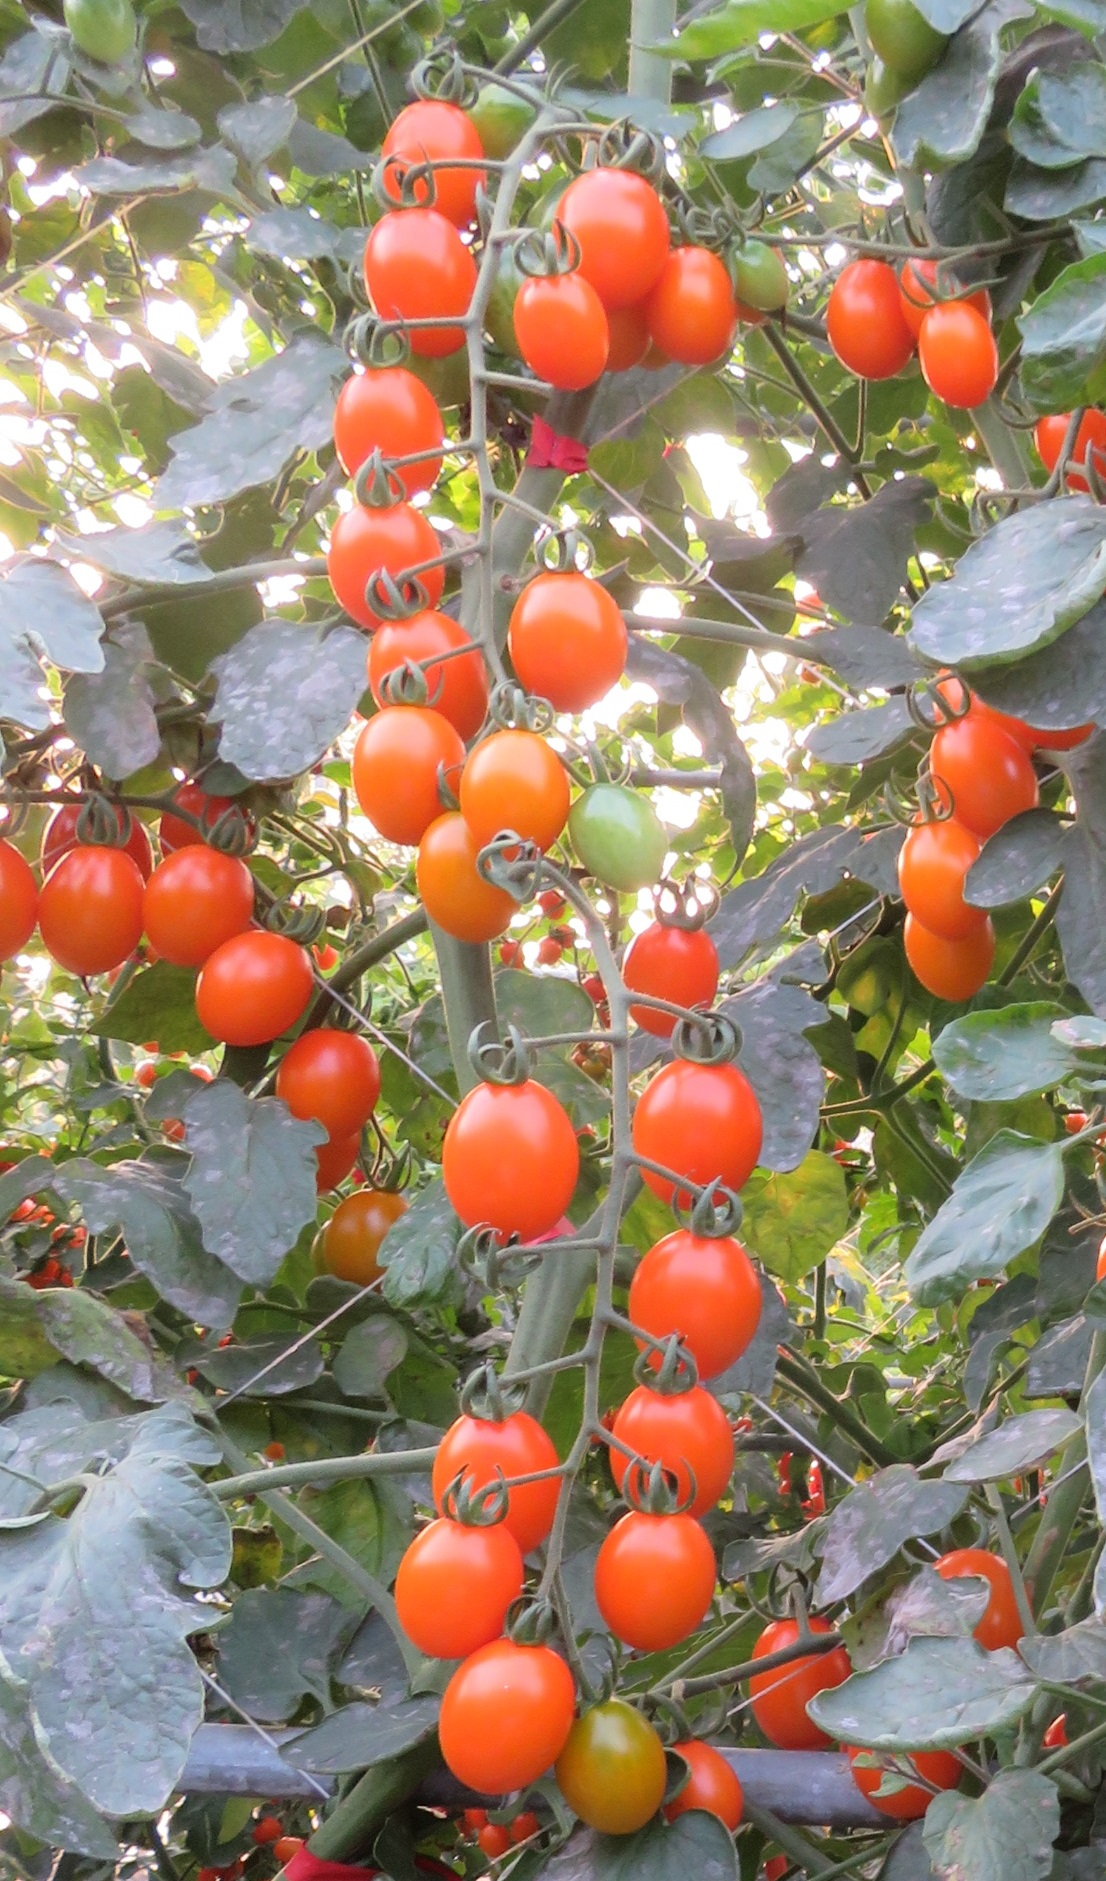green: (557, 773, 671, 887), (715, 232, 801, 320)
orange: (437, 1626, 582, 1795), (442, 1071, 581, 1247), (627, 1214, 762, 1391), (423, 1385, 570, 1544), (396, 1480, 525, 1659), (631, 1058, 770, 1220), (549, 1684, 683, 1845), (602, 1368, 741, 1520), (545, 161, 671, 328), (589, 1499, 718, 1662), (504, 558, 631, 716), (358, 594, 494, 738), (319, 487, 452, 634), (357, 212, 485, 358), (327, 359, 453, 507), (186, 921, 321, 1052), (463, 724, 575, 877), (357, 707, 471, 854), (411, 813, 533, 950), (33, 838, 141, 991), (623, 900, 735, 1046), (923, 716, 1047, 848), (508, 261, 614, 403), (378, 103, 494, 226), (144, 844, 258, 965), (901, 813, 1002, 944), (274, 1018, 377, 1140), (883, 910, 1005, 1010), (822, 254, 908, 390), (915, 303, 1009, 423), (645, 242, 733, 365), (323, 1193, 404, 1303)
red: (752, 1619, 856, 1755)
